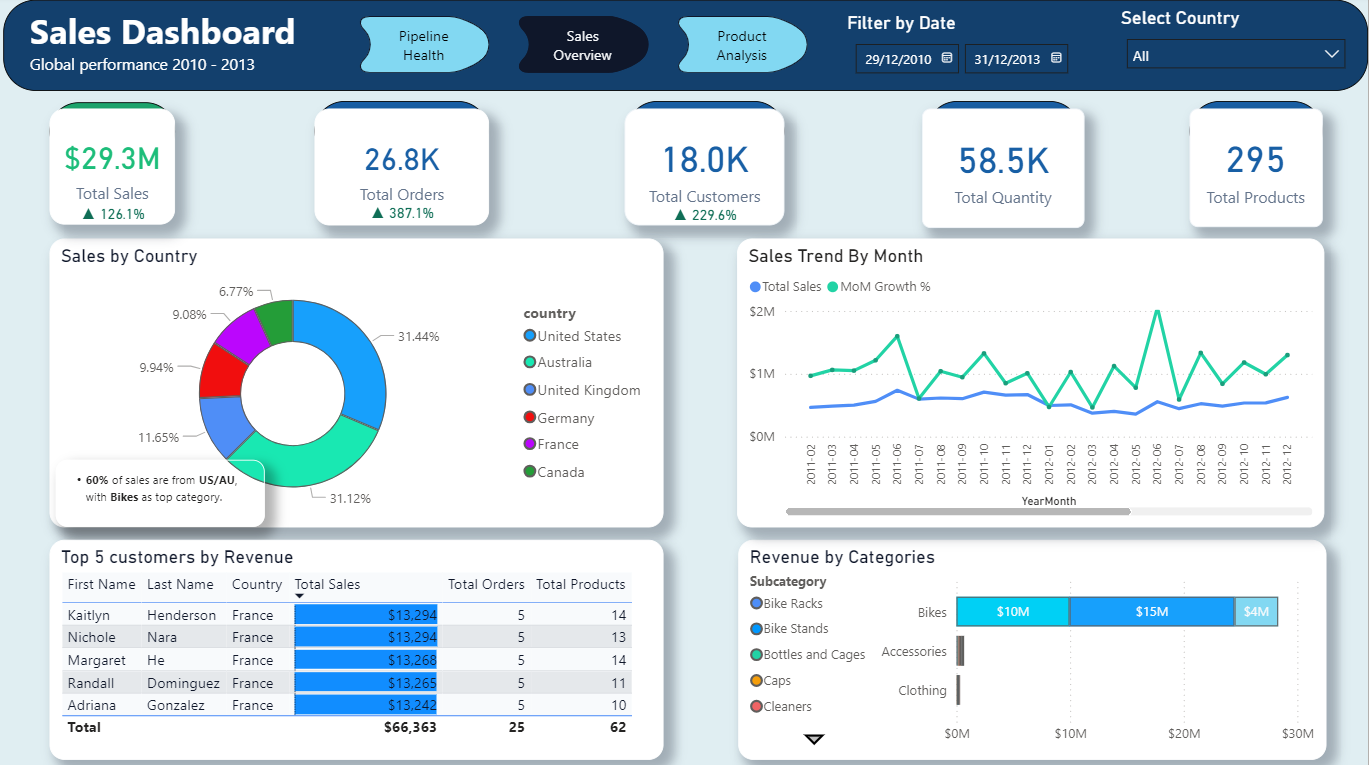

The dashboard page shown, as its layout file describes it:
{"tool":"powerbi","page":{"name":"Sales Overview","canvas":[1280,720],"ordinal":1},"visuals":[{"type":"textbox","box":[1113.8,97.9,123.7,55.9],"z":0},{"type":"textbox","box":[869.9,97.9,142.8,55.9],"z":1000},{"type":"textbox","box":[590.3,97.9,146.3,55.9],"z":2000},{"type":"textbox","box":[300,97.9,161.8,55.9],"z":3000},{"type":"textbox","box":[53.7,99.1,116.6,54.7],"z":4000},{"type":"card","fields":{"Values":["gold fact_sales.Total Orders"]},"box":[300.5,105.1,162.5,109.1],"z":5000},{"type":"textbox","box":[10.9,3.6,1269.3,84.9],"z":6000},{"type":"card","fields":{"Values":["gold fact_sales.Total Quantity"]},"box":[865.2,105.1,151.2,111.2],"z":7000},{"type":"card","fields":{"Values":["gold dim_products.Total Products"]},"box":[1113.9,105.1,123.8,110],"z":8000},{"type":"barChart","title":"Revenue by Categories","fields":{"Category":["gold dim_products.category"],"Y":["gold fact_sales.Total Sales"],"Series":["gold dim_products.subcategory"]},"box":[693.7,506.2,547.1,204.5],"z":9000},{"type":"card","fields":{"Values":["gold dim_customers.Total Customers"]},"box":[588.9,105.1,148.8,108.6],"z":10000},{"type":"slicer","title":"Filter by Date","fields":{"Values":["gold fact_sales.order_date"]},"box":[791.2,15,238.8,78.8],"z":11000},{"type":"textbox","box":[29.7,5.9,271.3,82.1],"z":12000},{"type":"donutChart","title":"Sales by Country","fields":{"Category":["gold dim_customers.country"],"Y":["gold fact_sales.Total Sales"]},"box":[53.4,225.7,571.1,268.9],"z":13000},{"type":"textbox","box":[59.2,431.5,194.6,62],"z":14000},{"type":"slicer","title":"Select Country","fields":{"Values":["gold dim_customers.country"]},"box":[1045,10,223.8,78.8],"z":15000},{"type":"tableEx","title":"Top 5 customers by Revenue","fields":{"Values":["gold dim_customers.first_name","gold dim_customers.last_name","gold dim_customers.country","gold fact_sales.Total Sales","gold fact_sales.Total Orders","Sum(gold fact_sales.quantity)"]},"box":[53.6,506.2,571.1,204.5],"z":16000},{"type":"pageNavigator","box":[333,19,436.9,53.2],"z":17000},{"type":"lineChart","title":"Sales Trend By Month","fields":{"Y":["gold fact_sales.Total Sales"],"Y2":["gold fact_sales.MoM Growth %"],"Category":["DateTable.YearMonth"]},"box":[693.6,225.7,546.1,268.9],"z":18000},{"type":"card","fields":{"Values":["gold fact_sales.Total Sales"]},"box":[53.7,105,116.6,108.3],"z":19000},{"type":"card","fields":{"Values":["Measures (2).Orders YoY Label"]},"box":[332.7,184.2,97.6,39.8],"z":20000},{"type":"card","fields":{"Values":["Measures (2).Customers YoY Label"]},"box":[624.2,184.9,77,39.8],"z":21000},{"type":"card","fields":{"Values":["Measures (2).Sales YoY Label"]},"box":[45.1,177.7,134,52.2],"z":22000}]}

Visuals, with their boxes in screenshot pixels (x1, y1, x2, y2), scaled from the page's 1280x720 canvas onto the 1369x765 screenshot:
textbox: (1191, 104, 1324, 163)
textbox: (930, 104, 1083, 163)
textbox: (631, 104, 788, 163)
textbox: (321, 104, 494, 163)
textbox: (57, 105, 182, 163)
card - gold fact_sales.Total Orders: (321, 112, 495, 228)
textbox: (12, 4, 1368, 94)
card - gold fact_sales.Total Quantity: (925, 112, 1087, 230)
card - gold dim_products.Total Products: (1191, 112, 1324, 229)
"Revenue by Categories" barChart: (742, 538, 1327, 755)
card - gold dim_customers.Total Customers: (630, 112, 789, 227)
"Filter by Date" slicer: (846, 16, 1102, 100)
textbox: (32, 6, 322, 94)
"Sales by Country" donutChart: (57, 240, 668, 526)
textbox: (63, 458, 271, 524)
"Select Country" slicer: (1118, 11, 1357, 94)
"Top 5 customers by Revenue" tableEx: (57, 538, 668, 755)
pageNavigator: (356, 20, 823, 77)
"Sales Trend By Month" lineChart: (742, 240, 1326, 526)
card - gold fact_sales.Total Sales: (57, 112, 182, 227)
card - Measures (2).Orders YoY Label: (356, 196, 460, 238)
card - Measures (2).Customers YoY Label: (668, 196, 750, 239)
card - Measures (2).Sales YoY Label: (48, 189, 192, 244)
